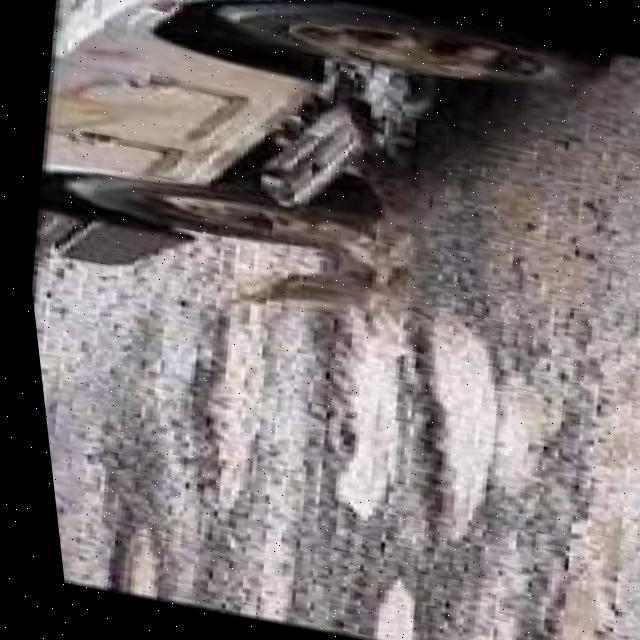Pothole: (418, 312, 549, 537), (527, 403, 640, 640), (318, 303, 387, 521), (189, 322, 254, 510), (100, 517, 146, 596), (359, 576, 405, 640)
